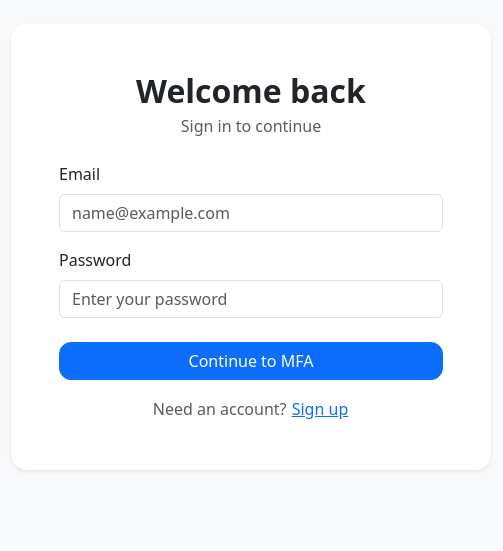
Test case: Auth flow › shows validation errors for invalid login input
Click the button "Continue to MFA" at (251,361), box [59,342,443,380]
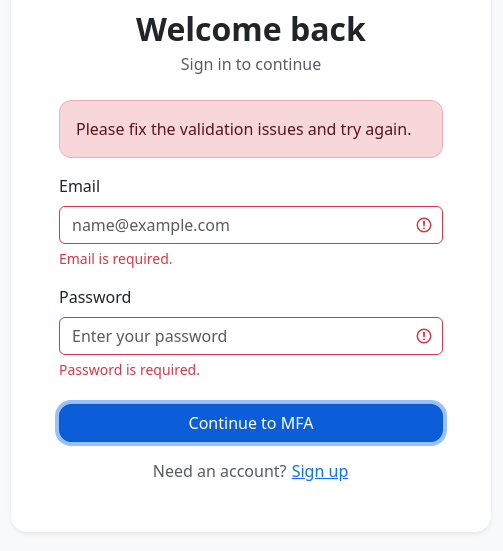
Now the text "Email is required." is shown, box [59,249,173,268]
Now the text "Password is required." is shown, box [59,360,200,379]
